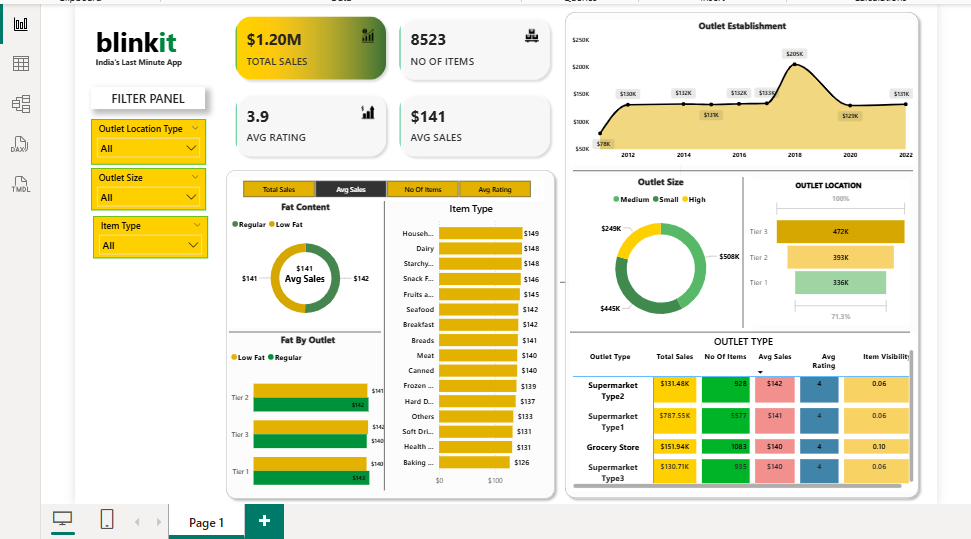

This screenshot's page, from the dashboard's own definition file:
{"tool":"powerbi","page":{"name":"Page 1","canvas":[1550,900],"ordinal":0},"visuals":[{"type":"shape","box":[12.3,12.3,250.5,886.9],"z":0},{"type":"textbox","box":[32.4,28.8,201.6,81],"z":1000},{"type":"textbox","box":[32.4,90,207,50.4],"z":2000},{"type":"cardVisual","fields":{"Data":["BlinkIT Grocery Data.Total Sales","BlinkIT Grocery Data.No Of Items","BlinkIT Grocery Data.Avg Rating","BlinkIT Grocery Data.Avg Sales"]},"box":[271,6.2,601.5,287.4],"z":3000},{"type":"shape","box":[262.8,289.5,609.7,609.7],"z":4000},{"type":"slicer","fields":{"Values":["Metrics.Metrics"]},"box":[277.2,312.1,566.6,43.1],"z":5000},{"type":"donutChart","title":"Fat Content","fields":{"Y":["BlinkIT Grocery Data.No Of Items"],"Category":["BlinkIT Grocery Data.Item Fat Content"]},"box":[277.2,355.2,275.1,227.9],"z":6000},{"type":"cardVisual","fields":{"Data":["BlinkIT Grocery Data.No Of Items"]},"box":[351.1,449.6,125.2,67.7],"z":6001},{"type":"clusteredBarChart","title":"Fat By Outlet","fields":{"Y":["BlinkIT Grocery Data.No Of Items"],"Category":["BlinkIT Grocery Data.Outlet Location Type"],"Series":["BlinkIT Grocery Data.Item Fat Content"]},"box":[275.1,593.3,287.4,305.9],"z":6002},{"type":"shape","box":[872.2,494.7,214.6,11.9],"z":6004},{"type":"shape","box":[1078.5,270.1,23.9,224.1],"z":6005},{"type":"barChart","title":"Item Type","fields":{"Category":["BlinkIT Grocery Data.Item Type"],"Y":["BlinkIT Grocery Data.No Of Items"]},"box":[572.8,355.2,281.3,521.5],"z":6006},{"type":"shape","box":[872.5,6.2,654.9,893],"z":6007},{"type":"lineChart","title":"Outlet Establishment ","fields":{"Category":["BlinkIT Grocery Data.Outlet Establishment Year"],"Y":["BlinkIT Grocery Data.Total Sales"]},"box":[888.9,28.7,624.1,260.7],"z":6008},{"type":"shape","box":[897.2,289.5,611.8,20.5],"z":6009},{"type":"donutChart","title":"Outlet Size","fields":{"Y":["BlinkIT Grocery Data.Total Sales"],"Category":["BlinkIT Grocery Data.Outlet Size"]},"box":[888.9,310,330.5,283.3],"z":6010},{"type":"shape","box":[550.2,355.2,12.3,521.5],"z":6011},{"type":"shape","box":[1194.8,312.1,14.4,271],"z":6012},{"type":"shape","box":[891,574.8,611.8,32.8],"z":6013},{"type":"funnel","title":" OUTLET LOCATION","fields":{"Y":["Sum(BlinkIT Grocery Data.Sales)"],"Category":["BlinkIT Grocery Data.Outlet Location Type"]},"box":[1209.2,316.2,293.6,260.7],"z":6014},{"type":"pivotTable","title":"OUTLET TYPE","fields":{"Values":["BlinkIT Grocery Data.Total Sales","BlinkIT Grocery Data.No Of Items","BlinkIT Grocery Data.Avg Sales","BlinkIT Grocery Data.Avg Rating","Avg(BlinkIT Grocery Data.Item Visibility)"],"Rows":["BlinkIT Grocery Data.Outlet Type"]},"box":[891,593.3,624.1,283.3],"z":6016},{"type":"slicer","fields":{"Values":["BlinkIT Grocery Data.Outlet Size"]},"box":[28.7,295.6,207.4,76],"z":6017},{"type":"shape","box":[277.2,583,273,14.4],"z":6018},{"type":"slicer","fields":{"Values":["BlinkIT Grocery Data.Outlet Location Type"]},"box":[28.7,207.4,207.4,82.1],"z":6019},{"type":"slicer","fields":{"Values":["BlinkIT Grocery Data.Item Type"]},"box":[32.8,381.9,207.4,76],"z":6020},{"type":"textbox","box":[28.7,149.9,205.3,39],"z":6021}]}

Visuals, with their boxes on the page's 1550x900 design canvas (x1, y1, x2, y2). These are canvas units, not pixel positions in the 971x539 screenshot, which may show the page scaled, cropped or inside an application window:
shape: BBox(12, 12, 263, 899)
textbox: BBox(32, 29, 234, 110)
textbox: BBox(32, 90, 239, 140)
cardVisual - BlinkIT Grocery Data.Total Sales x BlinkIT Grocery Data.No Of Items: BBox(271, 6, 872, 294)
shape: BBox(263, 290, 872, 899)
slicer - Metrics.Metrics: BBox(277, 312, 844, 355)
"Fat Content" donutChart: BBox(277, 355, 552, 583)
cardVisual - BlinkIT Grocery Data.No Of Items: BBox(351, 450, 476, 517)
"Fat By Outlet" clusteredBarChart: BBox(275, 593, 562, 899)
shape: BBox(872, 495, 1087, 507)
shape: BBox(1078, 270, 1102, 494)
"Item Type" barChart: BBox(573, 355, 854, 877)
shape: BBox(872, 6, 1527, 899)
"Outlet Establishment " lineChart: BBox(889, 29, 1513, 289)
shape: BBox(897, 290, 1509, 310)
"Outlet Size" donutChart: BBox(889, 310, 1219, 593)
shape: BBox(550, 355, 562, 877)
shape: BBox(1195, 312, 1209, 583)
shape: BBox(891, 575, 1503, 608)
" OUTLET LOCATION" funnel: BBox(1209, 316, 1503, 577)
"OUTLET TYPE" pivotTable: BBox(891, 593, 1515, 877)
slicer - BlinkIT Grocery Data.Outlet Size: BBox(29, 296, 236, 372)
shape: BBox(277, 583, 550, 597)
slicer - BlinkIT Grocery Data.Outlet Location Type: BBox(29, 207, 236, 290)
slicer - BlinkIT Grocery Data.Item Type: BBox(33, 382, 240, 458)
textbox: BBox(29, 150, 234, 189)
